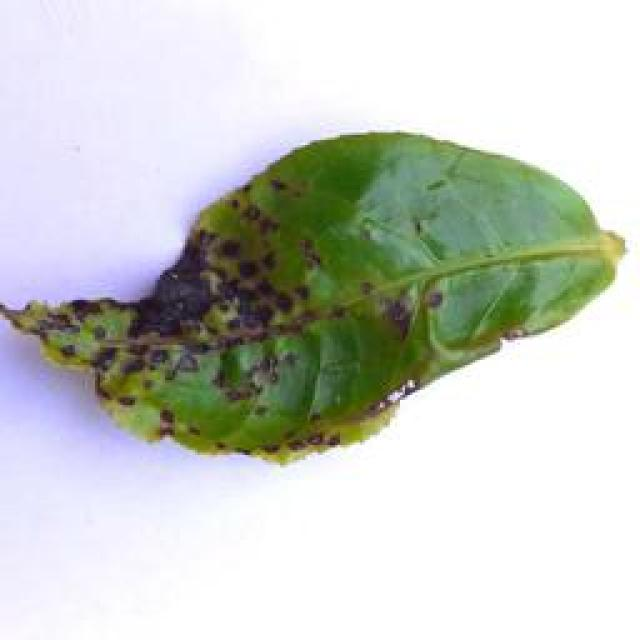Helopeltis: (0, 140, 626, 482)
